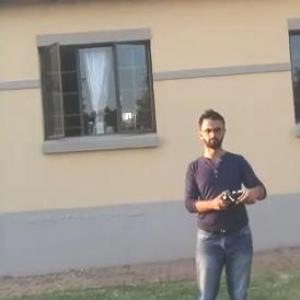follow: (176, 105, 270, 299)
